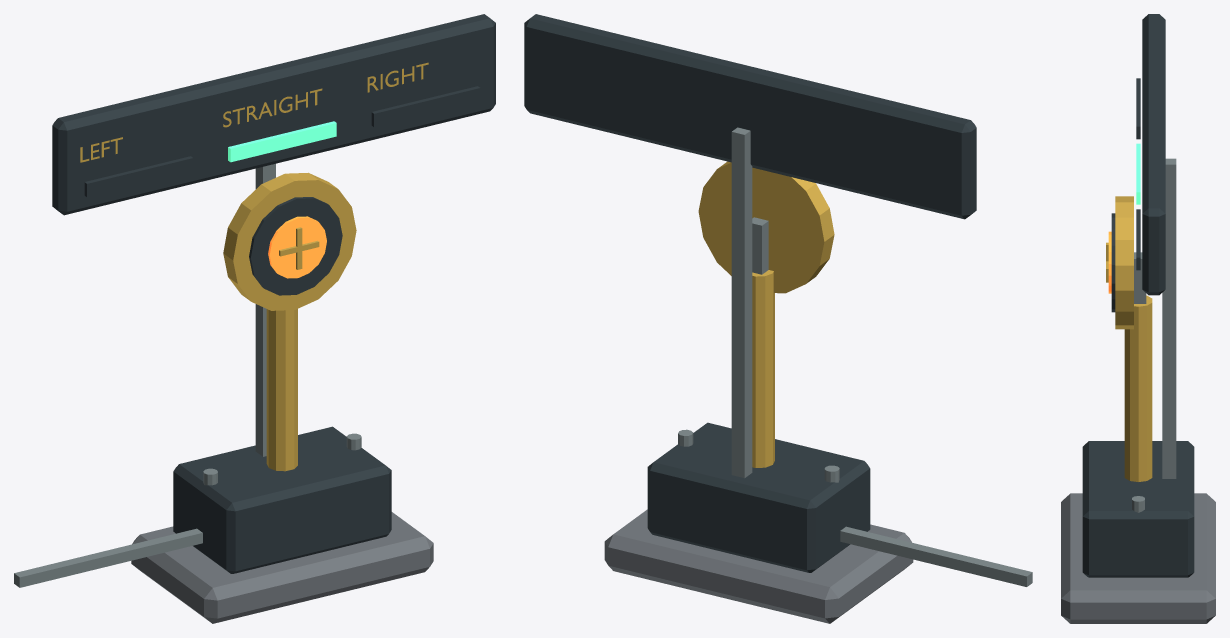
The model's file is DeadRail_TrackSwitch.fbx.
3 renders of one model, left to right at view 1: azimuth 30°, elevation 25°; view 2: azimuth 150°, elevation 25°; view 3: azimuth 270°, elevation 25°, orthographic. The views are drawn at different scales.
Parts seen in each view (by area): view 1: ThreeWay_Direction_Plate, Switch_Motor_Box, Switch_Concrete_Foot, TrackSwitch_HitTarget, Switch_Mast, Target_Black_Ring, Switch_Actuator_Rod, Target_Bullseye, Indicator_Post, Route_Lamp_LEFT, Route_Lamp_RIGHT, Route_Lamp_STRAIGHT (+1 smaller); view 2: ThreeWay_Direction_Plate, Switch_Motor_Box, Switch_Concrete_Foot, TrackSwitch_HitTarget, Indicator_Post, Switch_Mast, Switch_Actuator_Rod, Shoot_Lever; view 3: Switch_Motor_Box, Switch_Concrete_Foot, ThreeWay_Direction_Plate, Switch_Mast, Indicator_Post, TrackSwitch_HitTarget, Target_Black_Ring, Shoot_Lever, Route_Lamp_LEFT, Route_Lamp_RIGHT, Route_Lamp_STRAIGHT, Target_Bullseye.
Boxes of the visible parts, <box> form: ThreeWay_Direction_Plate: <box>52,14,495,215</box>; Switch_Motor_Box: <box>173,426,391,573</box>; Switch_Concrete_Foot: <box>131,512,433,623</box>; TrackSwitch_HitTarget: <box>223,172,356,310</box>; Switch_Mast: <box>266,309,297,471</box>; Target_Black_Ring: <box>249,197,342,295</box>; Switch_Actuator_Rod: <box>14,528,202,587</box>; Target_Bullseye: <box>268,216,326,278</box>; Indicator_Post: <box>255,163,275,456</box>; Route_Lamp_LEFT: <box>84,156,193,197</box>; Route_Lamp_RIGHT: <box>371,86,480,127</box>; Route_Lamp_STRAIGHT: <box>228,121,336,162</box>; ThreeWay_Direction_Plate: <box>524,14,976,219</box>; Switch_Motor_Box: <box>647,422,870,572</box>; Switch_Concrete_Foot: <box>604,509,913,623</box>; TrackSwitch_HitTarget: <box>698,161,834,293</box>; Indicator_Post: <box>731,127,752,478</box>; Switch_Mast: <box>752,270,774,467</box>; Switch_Actuator_Rod: <box>840,526,1032,586</box>; Shoot_Lever: <box>752,217,768,274</box>; Switch_Motor_Box: <box>1082,441,1194,577</box>; Switch_Concrete_Foot: <box>1061,493,1215,623</box>; ThreeWay_Direction_Plate: <box>1142,14,1165,295</box>; Switch_Mast: <box>1124,295,1152,481</box>; Indicator_Post: <box>1162,158,1176,478</box>; TrackSwitch_HitTarget: <box>1115,196,1133,329</box>; Target_Black_Ring: <box>1111,213,1115,312</box>; Shoot_Lever: <box>1134,252,1146,303</box>; Route_Lamp_LEFT: <box>1136,78,1140,139</box>; Route_Lamp_RIGHT: <box>1136,209,1140,270</box>; Route_Lamp_STRAIGHT: <box>1136,143,1140,204</box>; Target_Bullseye: <box>1108,231,1111,293</box>.
Bounding box in the file's own units: 3.37 × 3.31 × 1.
